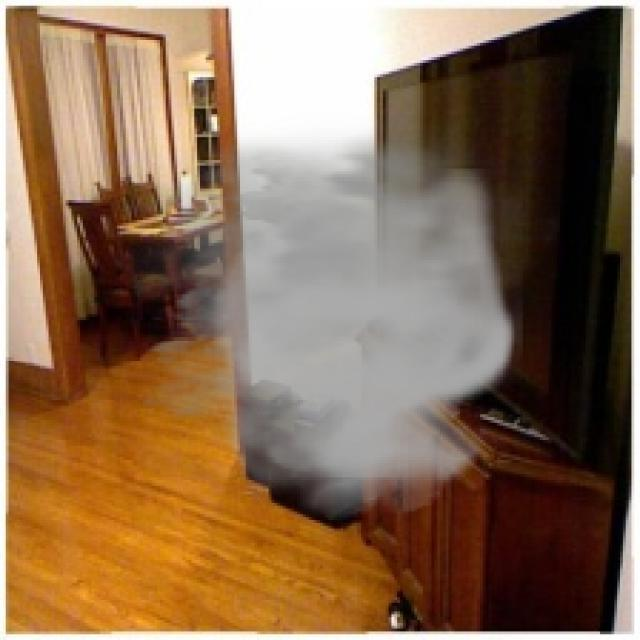Smoke: (100, 114, 523, 520)
